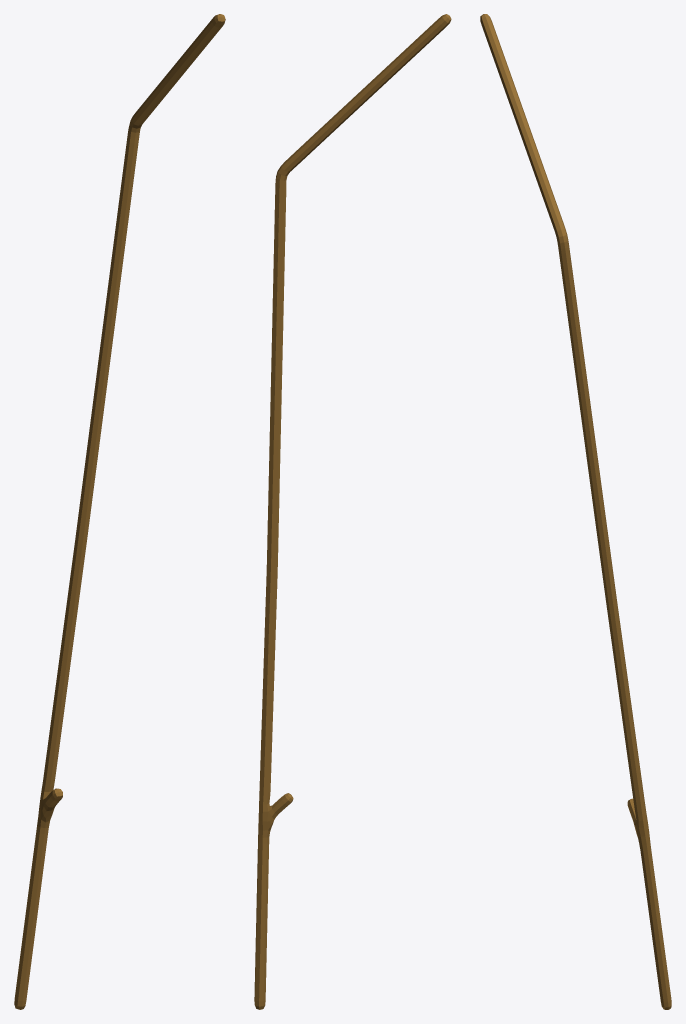
The model's file is Stick1.fbx.
The picture shows the model from 3 angles, left to right: view 1: azimuth 90°, elevation 25°; view 2: azimuth 150°, elevation 25°; view 3: azimuth 270°, elevation 25°; orthographic projection. The views are drawn at different scales.
Visible parts, largest first — view 1: Vert.004; view 2: Vert.004; view 3: Vert.004.
Boxes of the visible parts, <box> form: Vert.004: <box>14,14,225,1009</box>; Vert.004: <box>254,14,451,1009</box>; Vert.004: <box>480,14,671,1009</box>.
Size of the model in its own units: 19.88 by 134 by 24.48.
